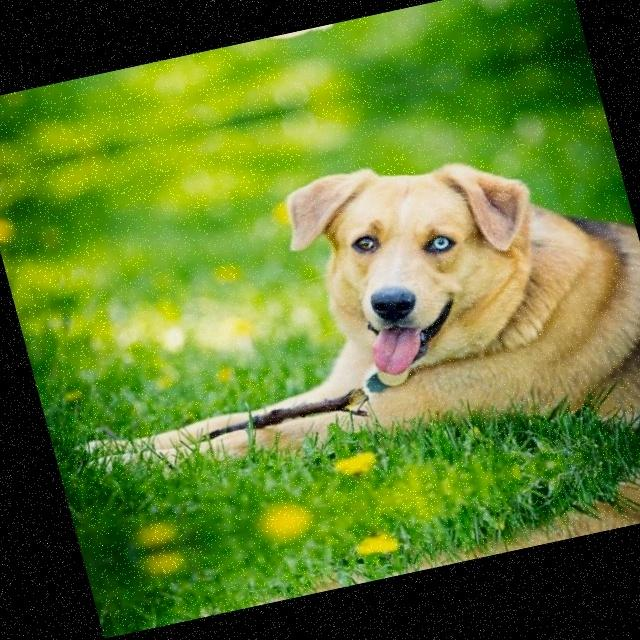dog: (48, 85, 640, 552), (142, 434, 640, 626), (18, 0, 574, 126)
